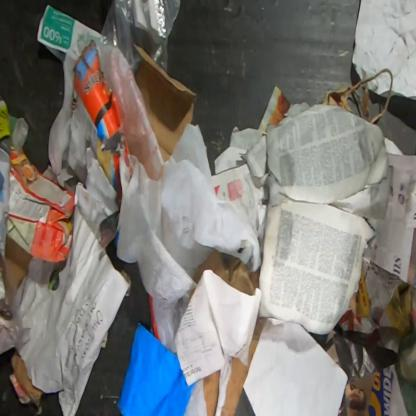cardboard: (6, 144, 76, 264), (134, 44, 197, 163), (192, 249, 260, 296), (220, 339, 259, 415), (0, 234, 33, 310), (12, 354, 43, 407), (203, 369, 220, 416)
soft_plastic: (95, 40, 164, 182), (100, 0, 181, 78)
